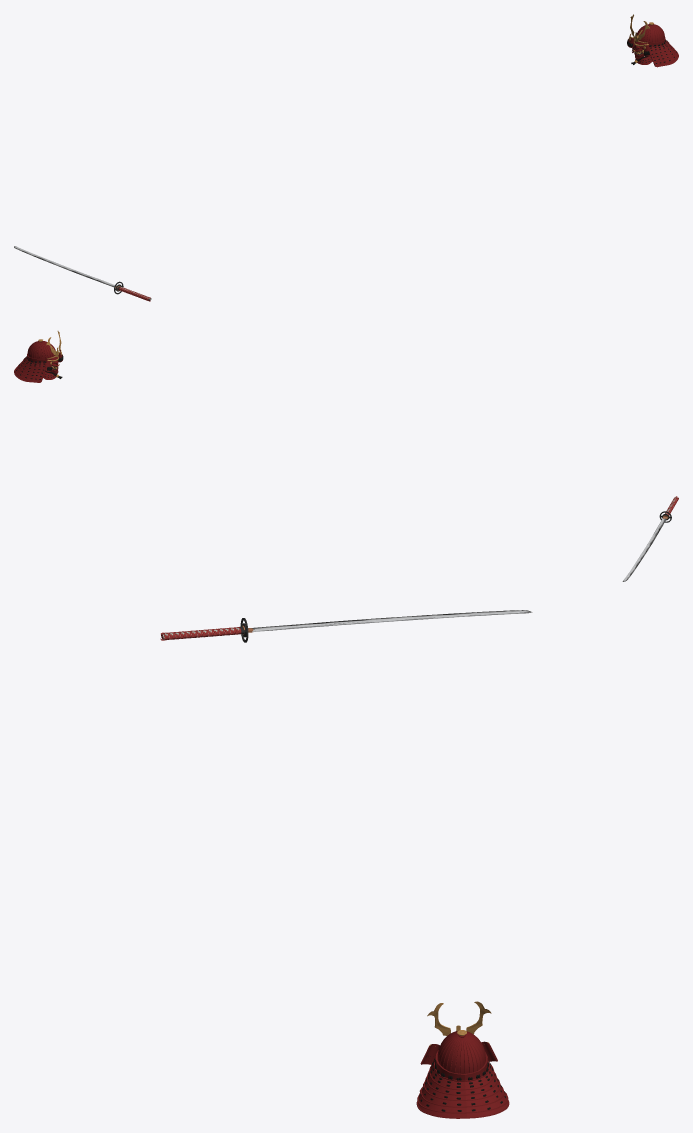
File: katana.fbx
The picture shows the model from 3 angles, top to bottom: view 1: azimuth 30°, elevation 25°; view 2: azimuth 150°, elevation 25°; view 3: azimuth 270°, elevation 25°; orthographic projection. The views are drawn at different scales.
Visible parts, largest first — view 1: casco_Metal_rojo_0, pasted__hoja_Acero_0; view 2: casco_Metal_rojo_0, pasted__hoja_Acero_0; view 3: casco_Metal_rojo_0, pasted__hoja_Acero_0.
Boxes of the visible parts, box(x1,y1,x2,y2) form: casco_Metal_rojo_0: box(627, 14, 678, 67); pasted__hoja_Acero_0: box(14, 246, 151, 301); casco_Metal_rojo_0: box(14, 331, 63, 382); pasted__hoja_Acero_0: box(622, 496, 678, 581); casco_Metal_rojo_0: box(416, 1001, 509, 1118); pasted__hoja_Acero_0: box(160, 610, 532, 642).
Bounding box in the file's own units: 662 × 93.1 × 171.
Materials: 9 (8 with a texture image).
